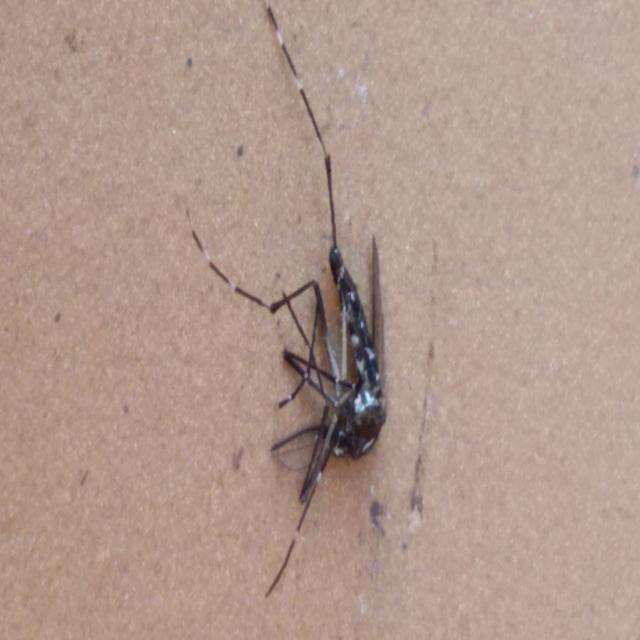albopictus: (180, 11, 401, 582)
